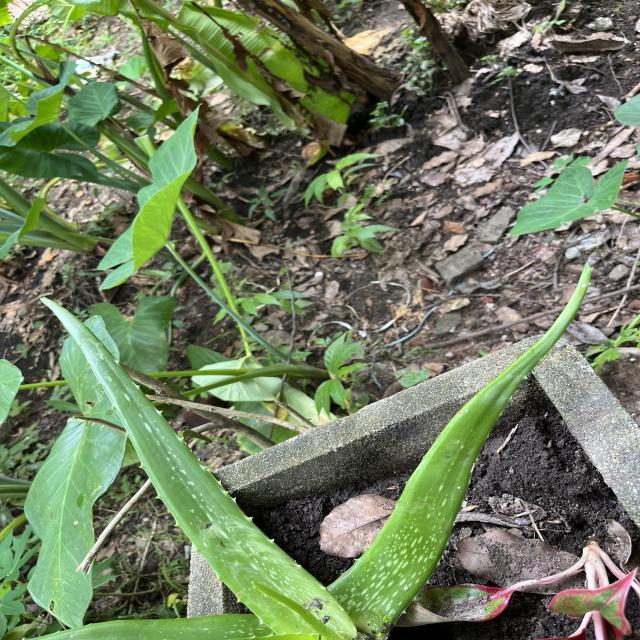Aloe vera: (32, 290, 364, 640), (332, 263, 602, 636)
